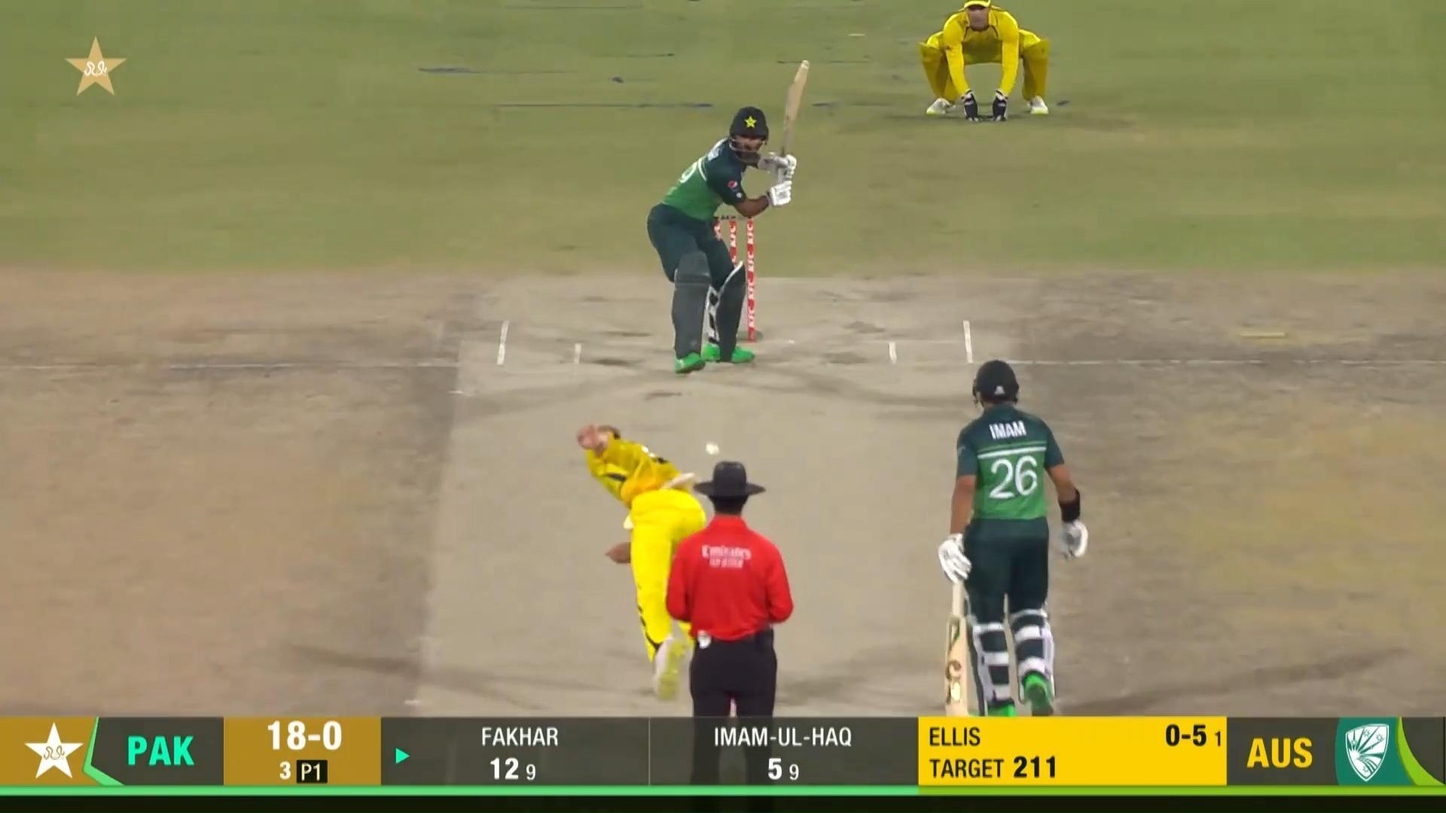BM 1: (645, 61, 813, 376)
BO: (575, 419, 708, 693)
